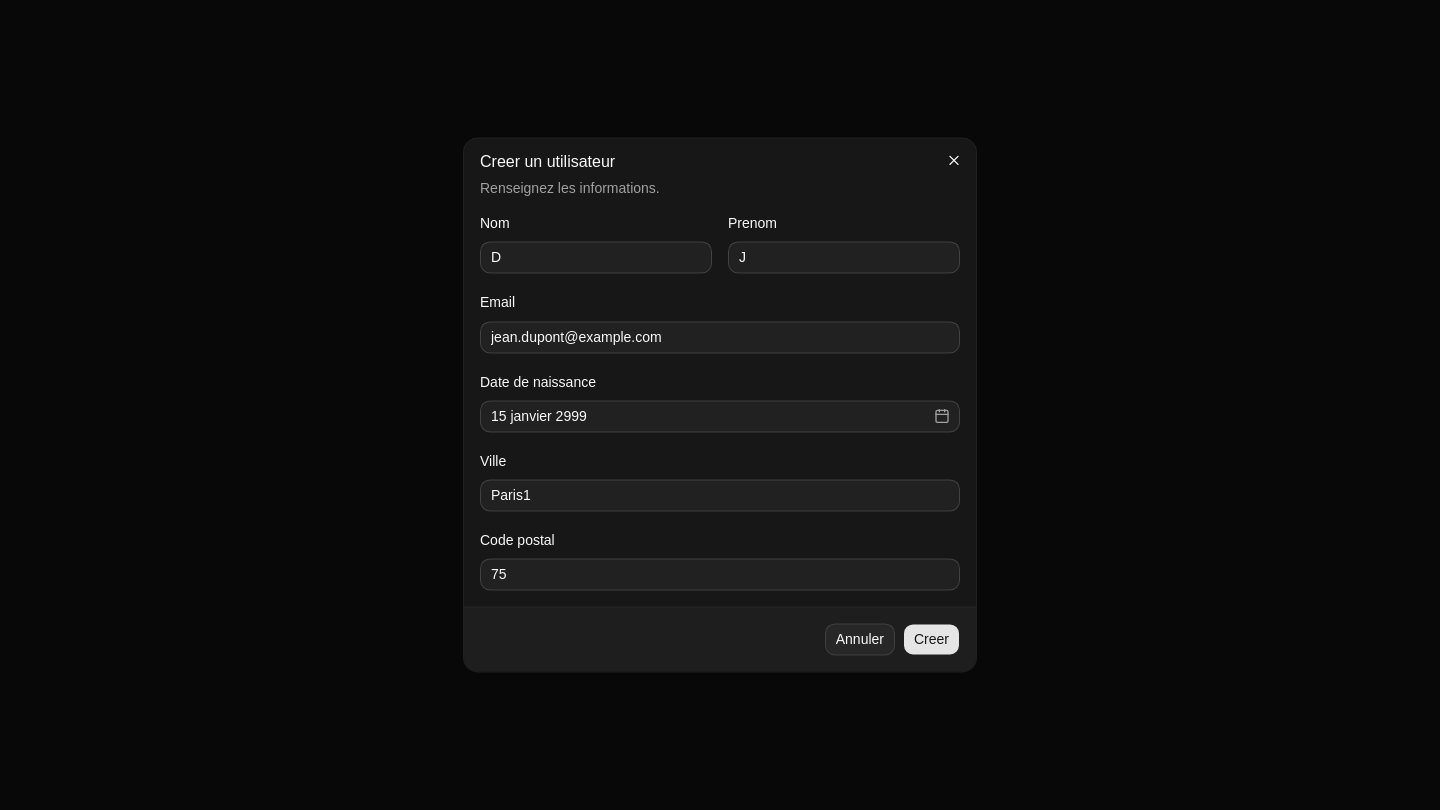
Test: UserDialog › shows validation errors next to invalid filled fields
Click the button "Creer" at (932, 640), box [903,624,960,656]
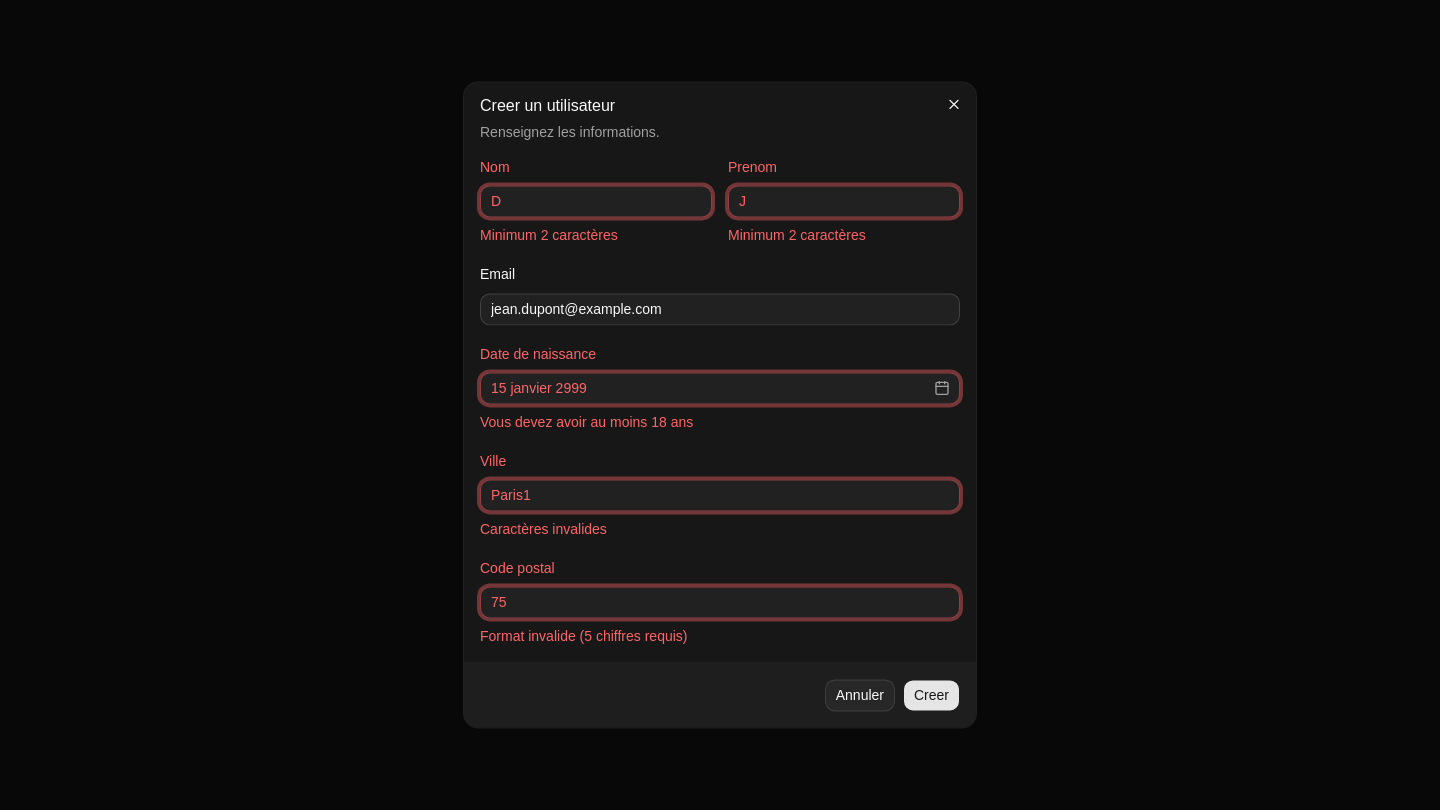
Expected: the text "Minimum 2 caractères" is shown 2 times, [480,228,618,244]; [728,228,866,244]
Expected: the text "Vous devez avoir au moins 18 ans" is shown, [480,414,693,430]
Expected: the text "Caractères invalides" is shown, [480,521,607,537]
